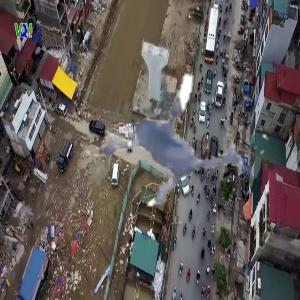drone: (74, 13, 293, 232)
